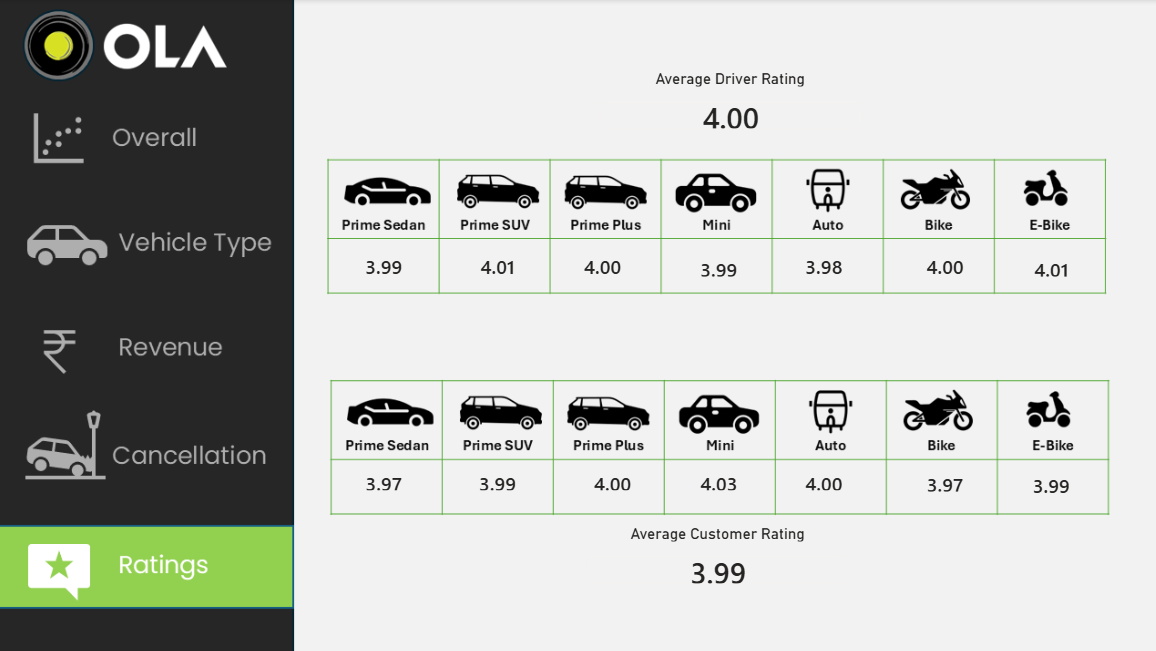

What the dashboard file says about the page in this screenshot:
{"tool":"powerbi","page":{"name":"Rating","canvas":[1280,720],"ordinal":4},"visuals":[{"type":"actionButton","box":[0,309.5,323.8,121.4],"z":0},{"type":"actionButton","box":[0,431,323.8,145.2],"z":1000},{"type":"actionButton","box":[0,576.2,323.8,92.9],"z":2000},{"type":"actionButton","box":[0,100,323.8,122.6],"z":3000},{"type":"actionButton","box":[0,222.6,323.8,86.9],"z":4000},{"type":"cardVisual","title":"Average Driver Rating","fields":{"Data":["Avg(ola.Driver_Ratings)"]},"box":[640.1,77.1,323.5,84],"z":5000},{"type":"cardVisual","fields":{"Data":["Avg(ola.Driver_Ratings)"]},"box":[364.8,265.7,115.6,53.7],"z":6000},{"type":"cardVisual","fields":{"Data":["Avg(ola.Driver_Ratings)"]},"box":[490.1,265.7,115.6,53.7],"z":7000},{"type":"cardVisual","fields":{"Data":["Avg(ola.Driver_Ratings)"]},"box":[605.7,265.7,115.6,53.7],"z":8000},{"type":"cardVisual","fields":{"Data":["Avg(ola.Driver_Ratings)"]},"box":[732.4,268.4,115.6,53.7],"z":9000},{"type":"cardVisual","fields":{"Data":["Avg(ola.Driver_Ratings)"]},"box":[848,265.7,115.6,53.7],"z":10000},{"type":"cardVisual","fields":{"Data":["Avg(ola.Driver_Ratings)"]},"box":[981.5,265.7,115.6,53.7],"z":11000},{"type":"cardVisual","fields":{"Data":["Avg(ola.Driver_Ratings)"]},"box":[1097.2,268.4,115.6,53.7],"z":12000},{"type":"cardVisual","title":"Average Customer Rating","fields":{"Data":["Avg(ola.Customer_Rating)"]},"box":[627.8,576.8,323.5,84],"z":13000},{"type":"cardVisual","fields":{"Data":["Avg(ola.Customer_Rating)"]},"box":[364.8,503.9,115.6,53.7],"z":14000},{"type":"cardVisual","fields":{"Data":["Avg(ola.Customer_Rating)"]},"box":[490.1,503.9,115.6,53.7],"z":15000},{"type":"cardVisual","fields":{"Data":["Avg(ola.Customer_Rating)"]},"box":[616.7,503.9,115.6,53.7],"z":16000},{"type":"cardVisual","fields":{"Data":["Avg(ola.Customer_Rating)"]},"box":[732.4,503.9,115.6,53.7],"z":17000},{"type":"cardVisual","fields":{"Data":["Avg(ola.Customer_Rating)"]},"box":[848,503.9,115.6,53.7],"z":18000},{"type":"cardVisual","fields":{"Data":["Avg(ola.Customer_Rating)"]},"box":[981.5,505.2,115.6,53.7],"z":19000},{"type":"cardVisual","fields":{"Data":["Avg(ola.Customer_Rating)"]},"box":[1097.2,506.6,115.6,53.7],"z":20000}]}

Visuals, with their boxes on the page's 1280x720 design canvas (x1, y1, x2, y2). These are canvas units, not pixel positions in the 1156x651 screenshot, which may show the page scaled, cropped or inside an application window:
actionButton: box(0, 310, 324, 431)
actionButton: box(0, 431, 324, 576)
actionButton: box(0, 576, 324, 669)
actionButton: box(0, 100, 324, 223)
actionButton: box(0, 223, 324, 310)
"Average Driver Rating" cardVisual: box(640, 77, 964, 161)
cardVisual - Avg(ola.Driver_Ratings): box(365, 266, 480, 319)
cardVisual - Avg(ola.Driver_Ratings): box(490, 266, 606, 319)
cardVisual - Avg(ola.Driver_Ratings): box(606, 266, 721, 319)
cardVisual - Avg(ola.Driver_Ratings): box(732, 268, 848, 322)
cardVisual - Avg(ola.Driver_Ratings): box(848, 266, 964, 319)
cardVisual - Avg(ola.Driver_Ratings): box(982, 266, 1097, 319)
cardVisual - Avg(ola.Driver_Ratings): box(1097, 268, 1213, 322)
"Average Customer Rating" cardVisual: box(628, 577, 951, 661)
cardVisual - Avg(ola.Customer_Rating): box(365, 504, 480, 558)
cardVisual - Avg(ola.Customer_Rating): box(490, 504, 606, 558)
cardVisual - Avg(ola.Customer_Rating): box(617, 504, 732, 558)
cardVisual - Avg(ola.Customer_Rating): box(732, 504, 848, 558)
cardVisual - Avg(ola.Customer_Rating): box(848, 504, 964, 558)
cardVisual - Avg(ola.Customer_Rating): box(982, 505, 1097, 559)
cardVisual - Avg(ola.Customer_Rating): box(1097, 507, 1213, 560)
